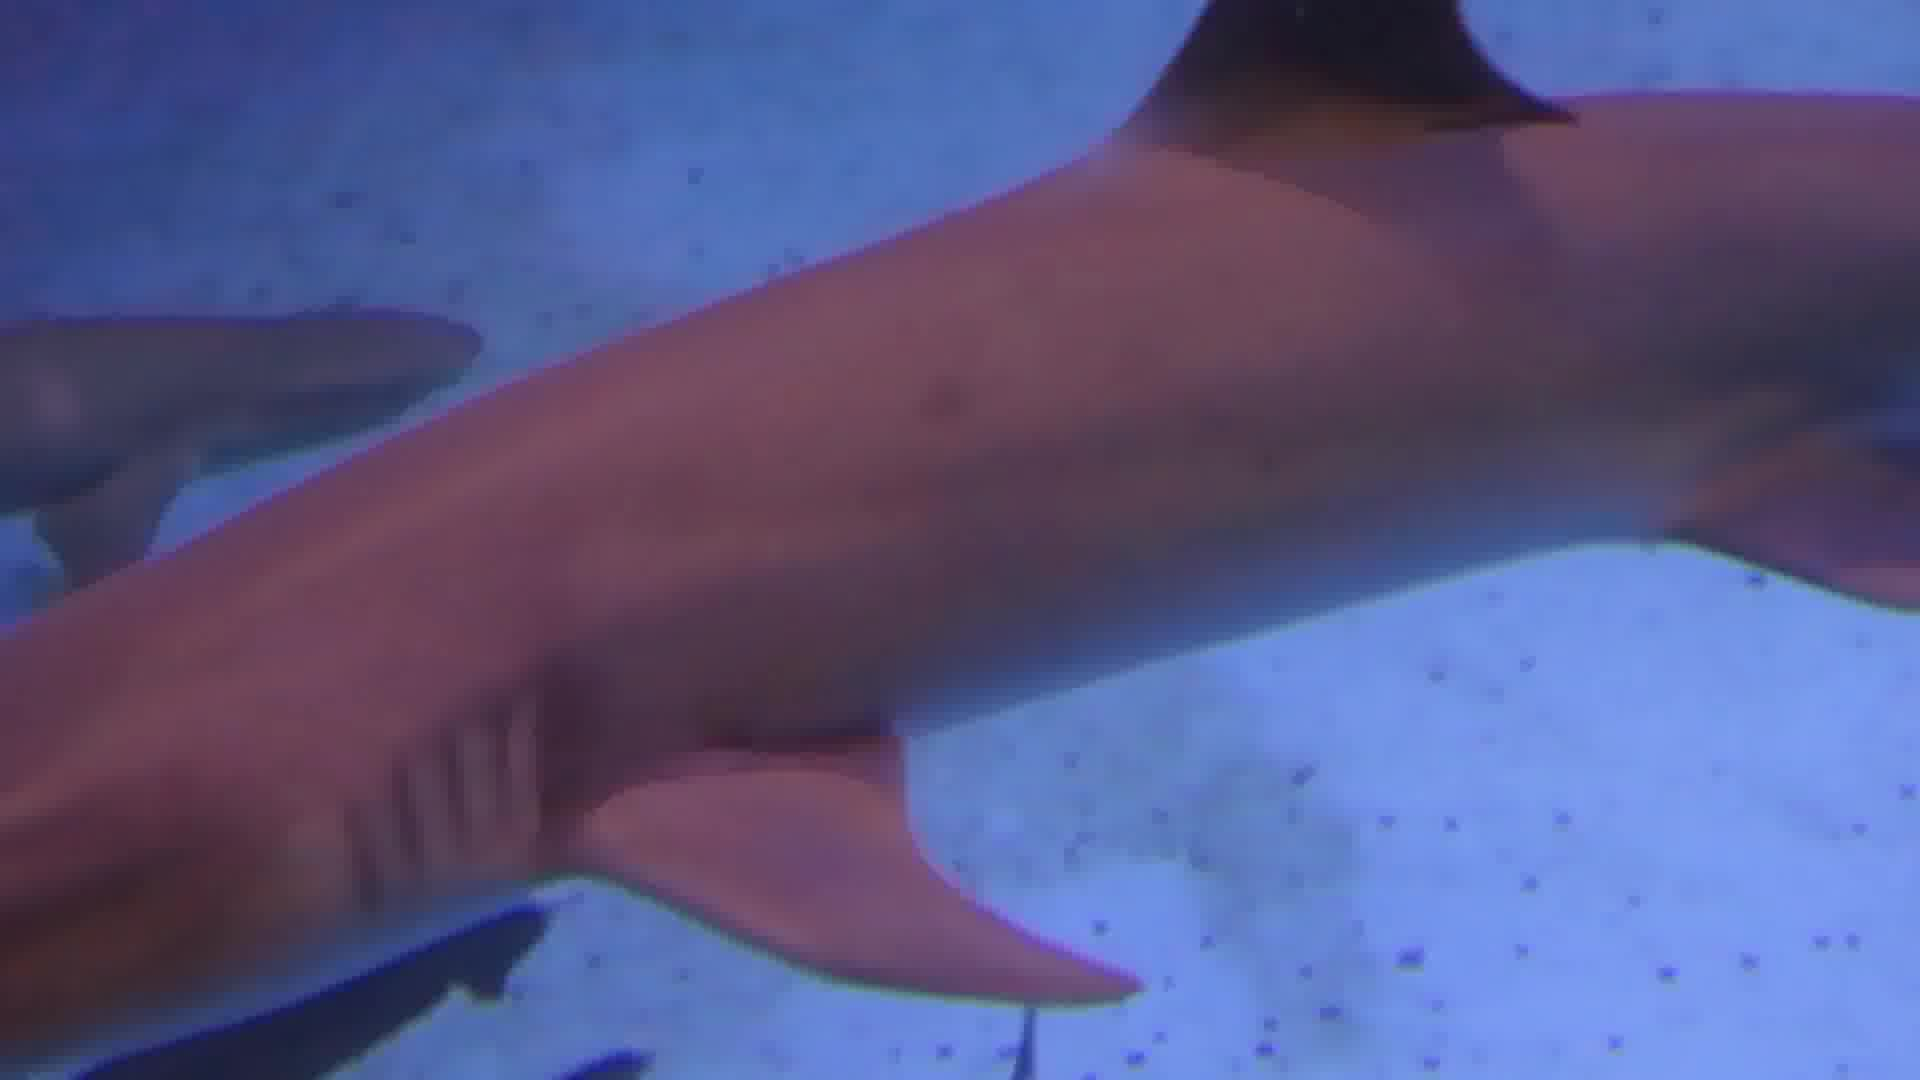Triaenodon obesus: (1, 1, 1920, 975)
